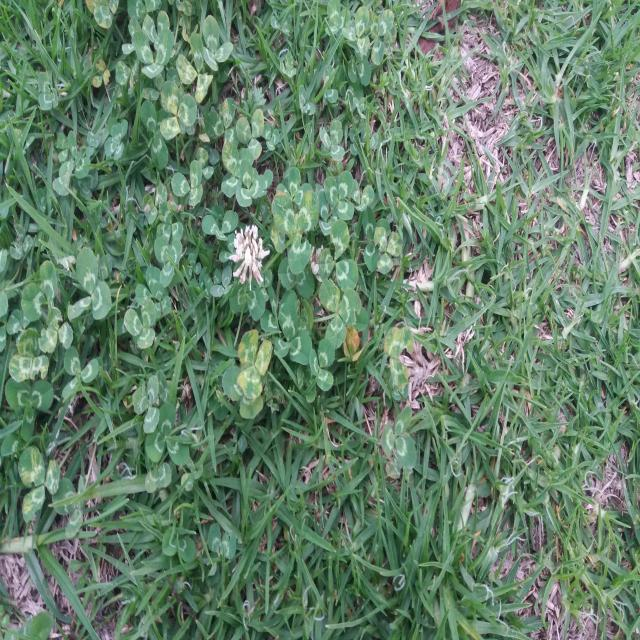Four Leaf Clover: (384, 327, 413, 388)
